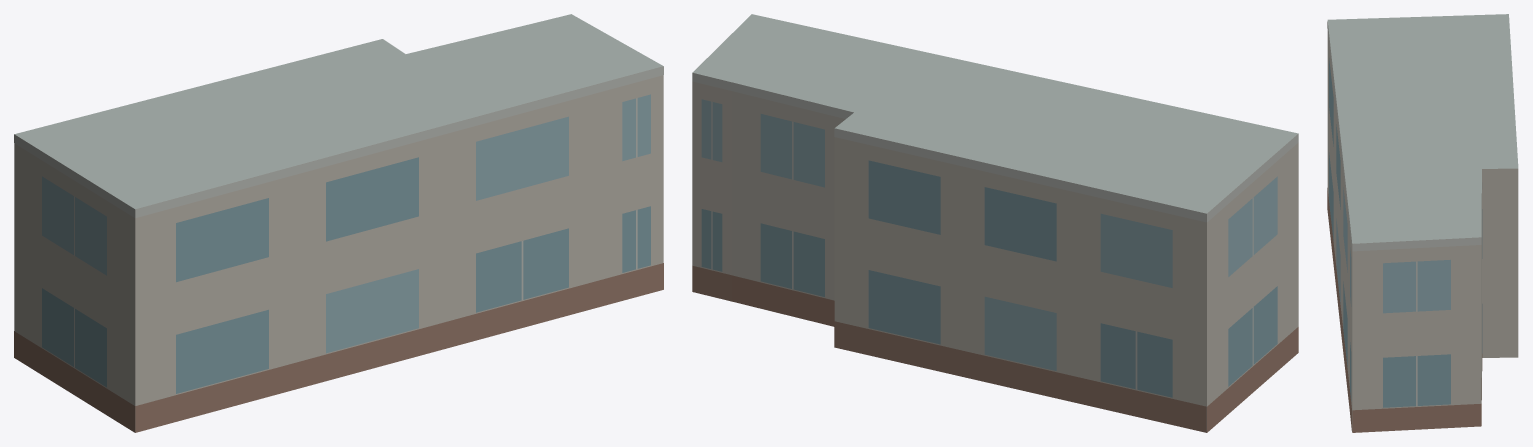
File: survey-upis-32803117.glb
The picture shows the model from 3 angles, left to right: view 1: azimuth 30°, elevation 25°; view 2: azimuth 150°, elevation 25°; view 3: azimuth 270°, elevation 25°; orthographic projection. The views are drawn at different scales.
Visible parts, largest first — view 1: survey-upis-32803117.tmp; view 2: survey-upis-32803117.tmp; view 3: survey-upis-32803117.tmp.
Part boxes in pixels (bbox=[...]): survey-upis-32803117.tmp: bbox=[14, 14, 663, 432]; survey-upis-32803117.tmp: bbox=[692, 14, 1298, 432]; survey-upis-32803117.tmp: bbox=[1327, 14, 1518, 432].
Bounding box in the file's own units: 15.92 × 6.1 × 5.6.
